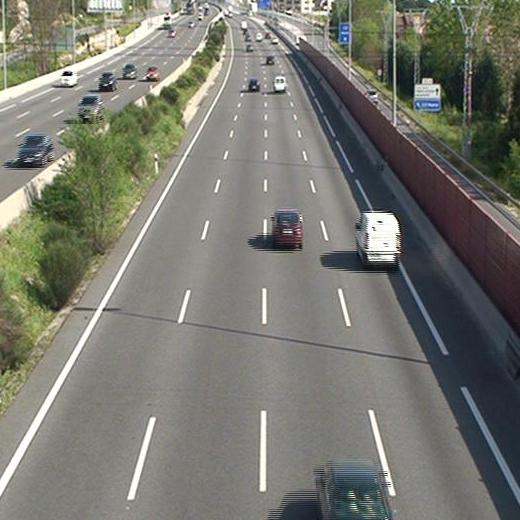car: (273, 210, 302, 245), (247, 78, 260, 92), (265, 54, 274, 66)
van: (357, 213, 399, 266), (272, 76, 287, 93)
